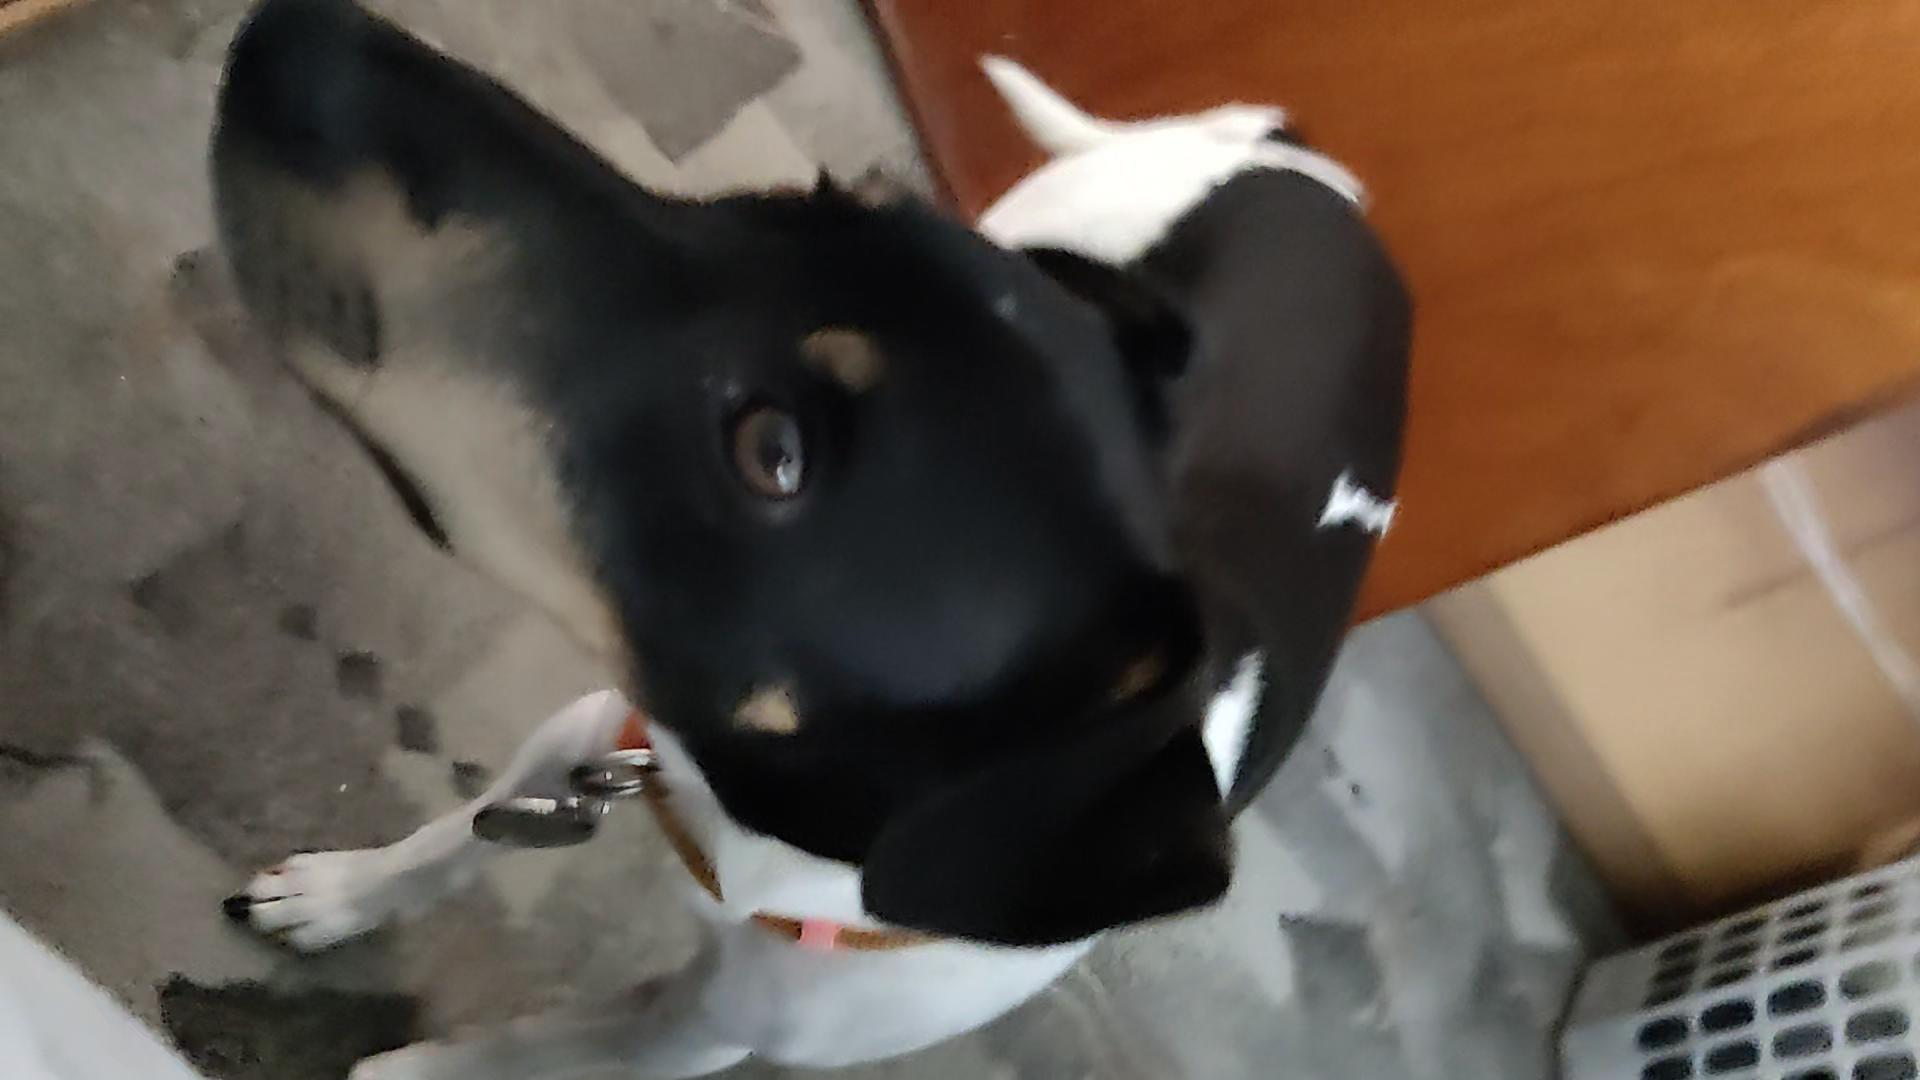Dog: (173, 0, 1447, 1080)
